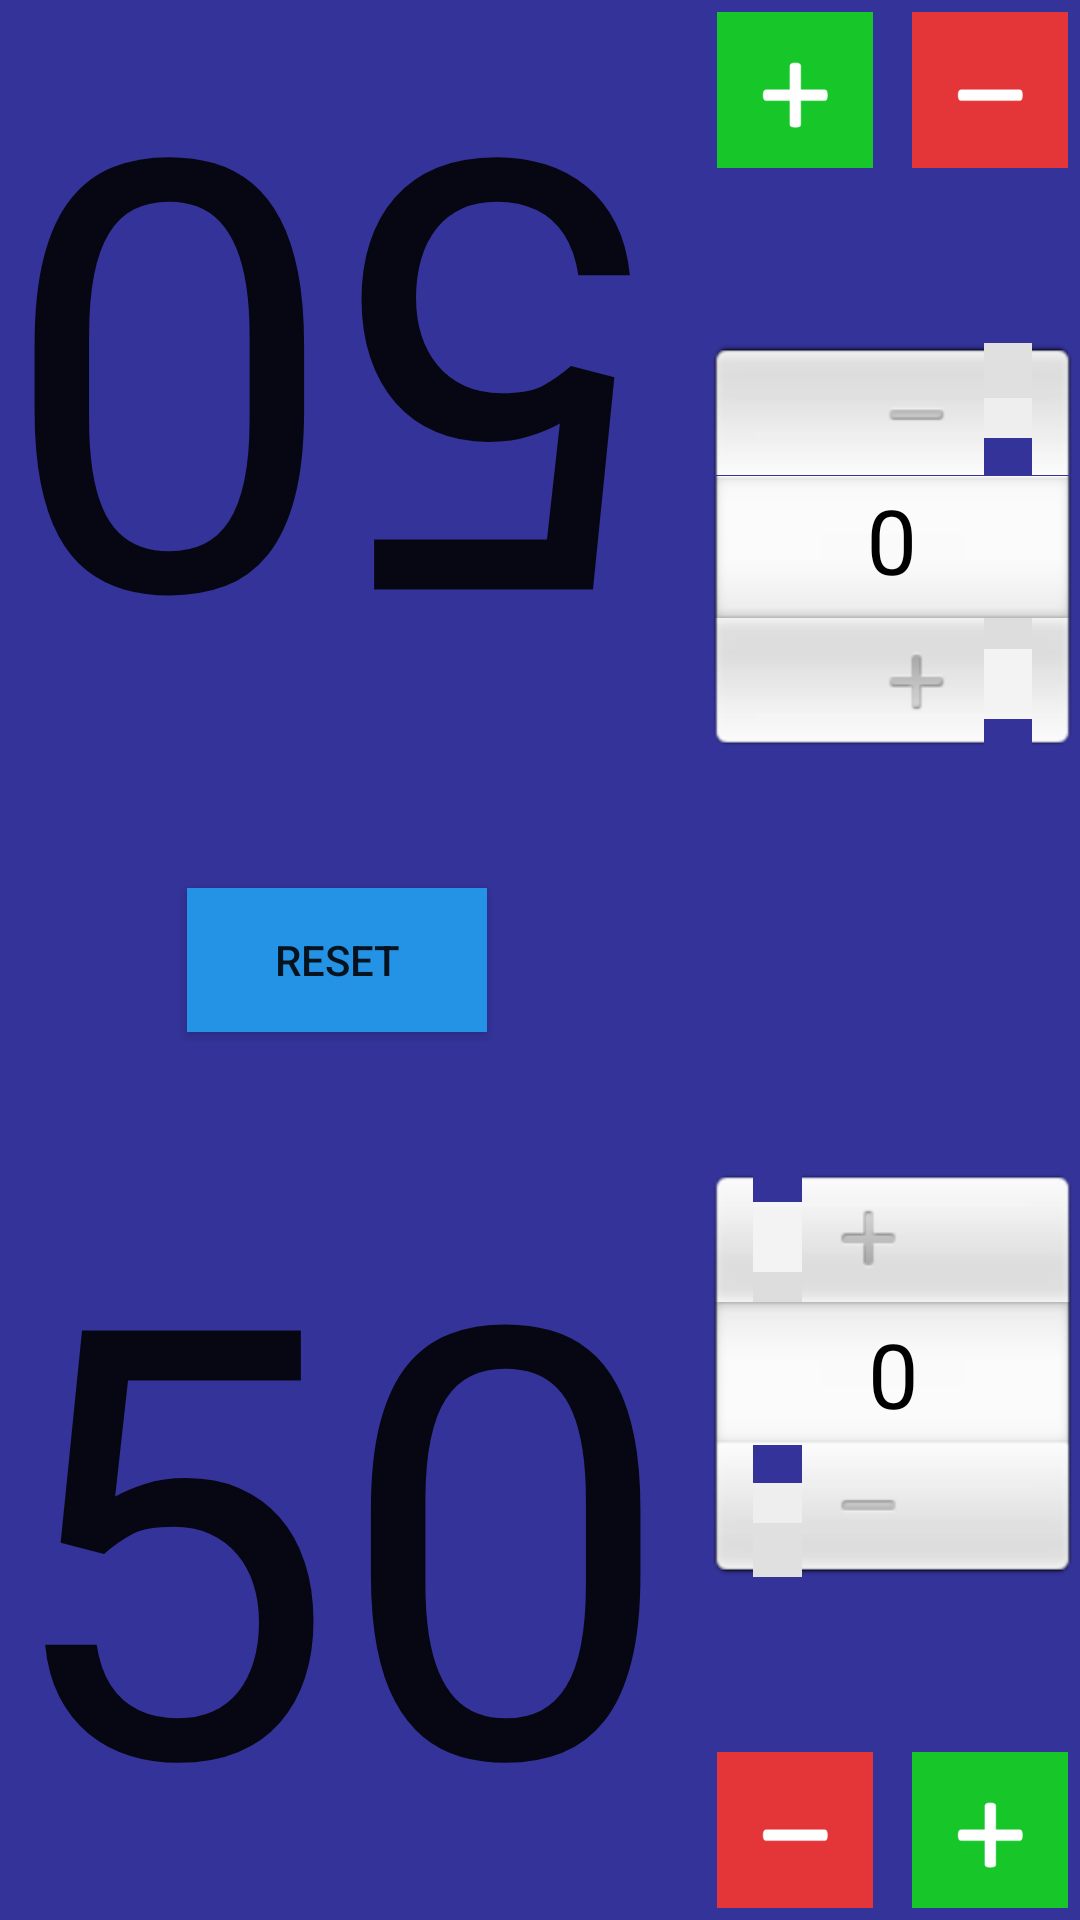

Where icons sit on this 1080 x 1920 app screen, as detection(x1, y1, x2, y2):
squareminus: detection(912, 12, 1068, 168), detection(717, 1752, 873, 1908)
squareplus: detection(717, 12, 873, 168), detection(912, 1752, 1068, 1908)
